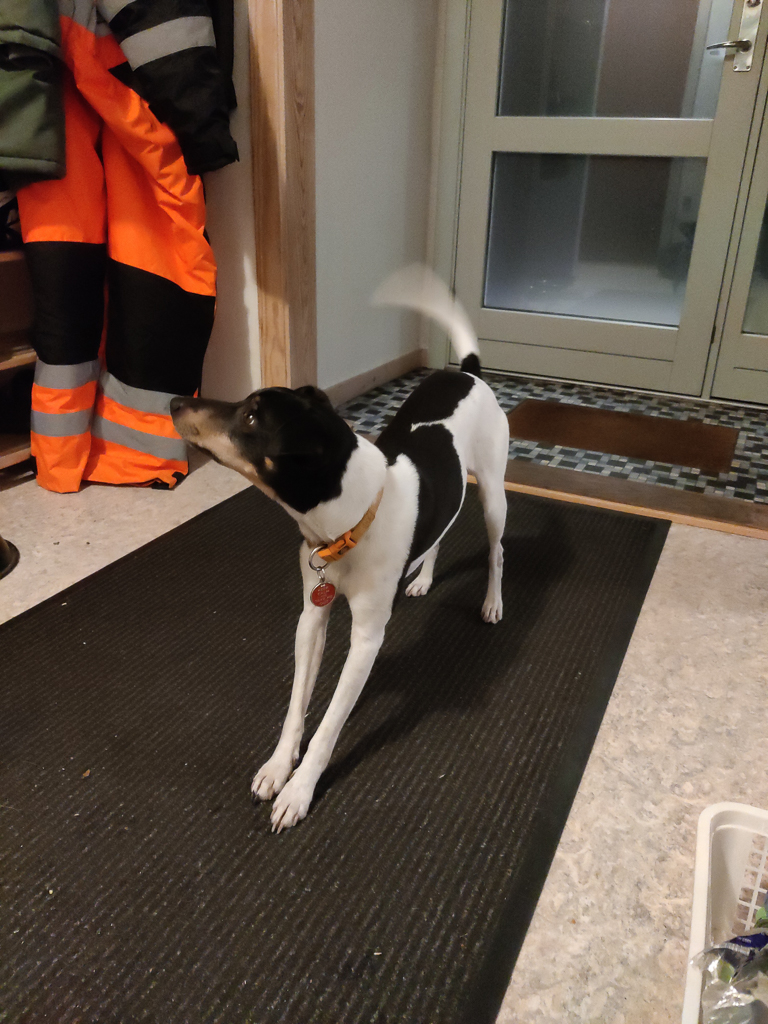Dog: (154, 245, 530, 845)
